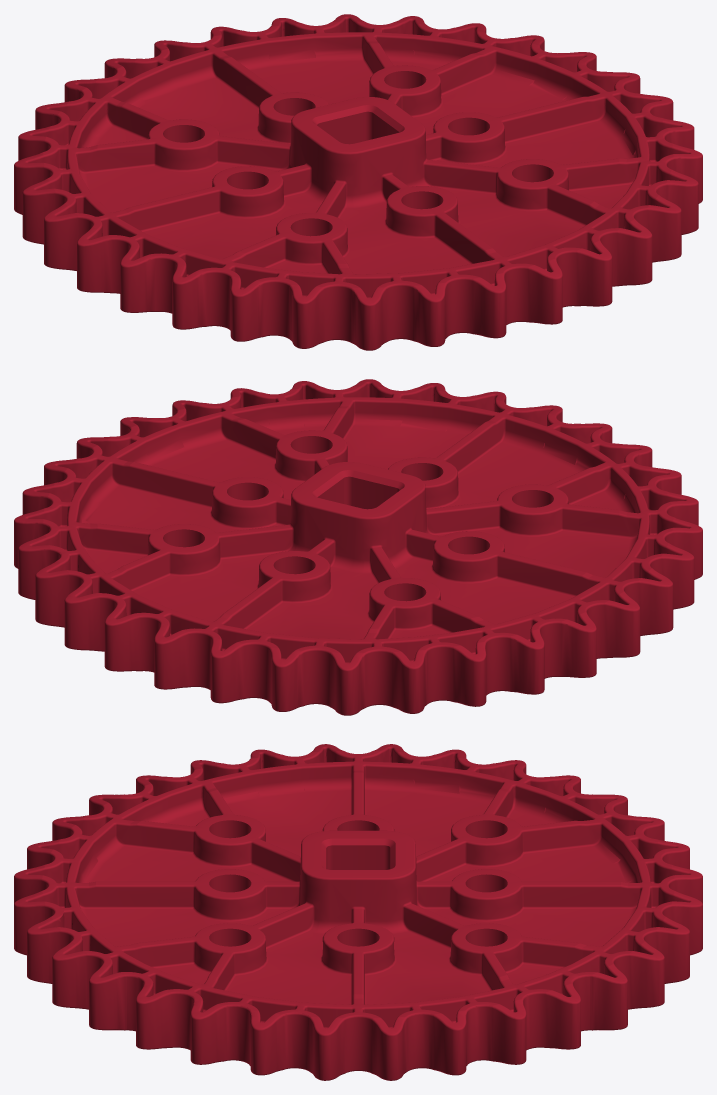
File: 32t-sprocket-6p.glb
3 renders of one model, top to bottom at view 1: azimuth 30°, elevation 25°; view 2: azimuth 150°, elevation 25°; view 3: azimuth 270°, elevation 25°, orthographic.
Parts seen in each view (by area): view 1: 276-8030-004 Rev2; view 2: 276-8030-004 Rev2; view 3: 276-8030-004 Rev2.
Boxes of the visible parts, x1=… form: 276-8030-004 Rev2: x1=14, y1=14, x2=702, y2=350; 276-8030-004 Rev2: x1=14, y1=379, x2=702, y2=715; 276-8030-004 Rev2: x1=14, y1=744, x2=702, y2=1080.
Bounding box in the file's own units: 0.0682 × 0.0127 × 0.0682.
